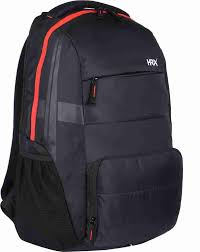backpack: (0, 0, 183, 251)
